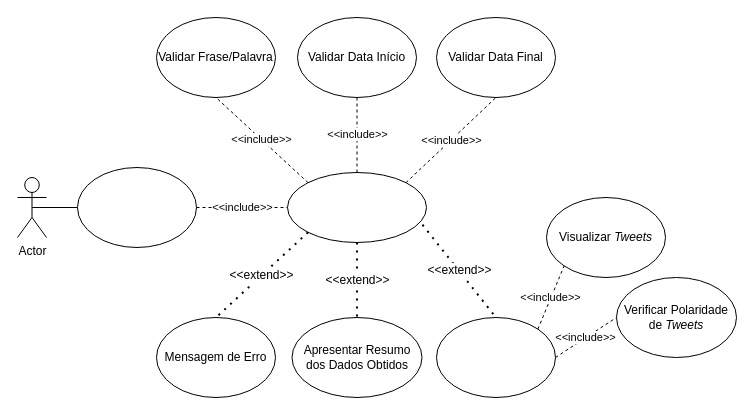
This 754x415 diagram has some shape labels left out. Each missing label, with the box of its shape:
Obter Tabela de Tweets: (436, 316, 556, 398)
Preencher Formulário: (286, 172, 426, 242)
Verificar polaridades de Tweets: (76, 166, 196, 248)
